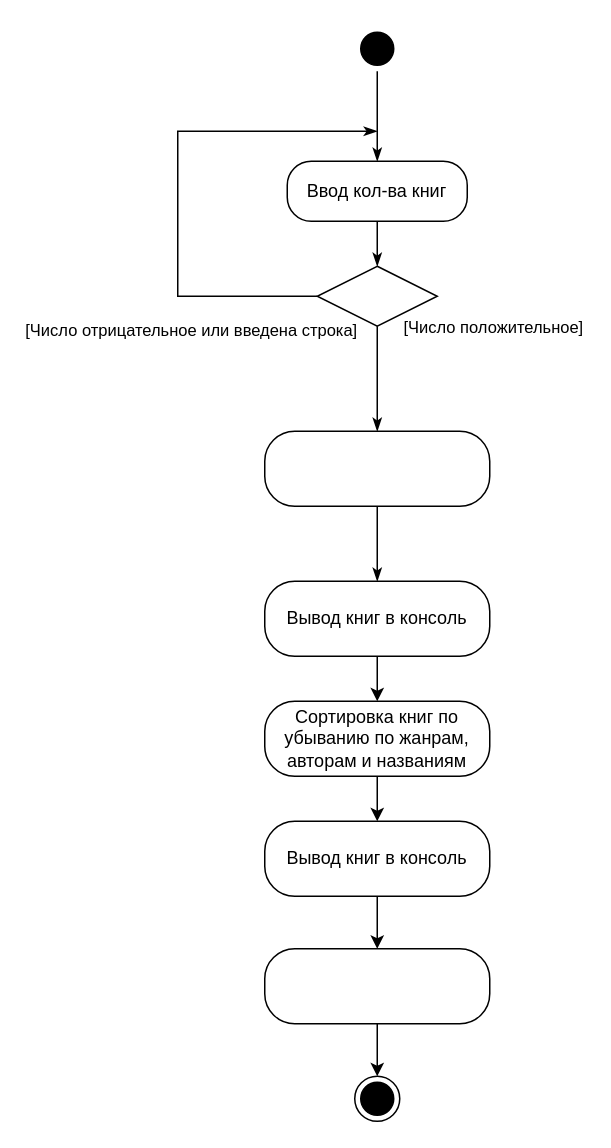
Some shapes in this 611 by 1148 pixel diagram are drawn without their labels. The shapes that lost their labels are listed below. From the top down, each one's centre as x and y in pixels, then its label:
At point (376, 468): "Заполнение объектов книг данными пользователя".
At point (376, 985): "Запись отсортированных книг в file.txt".
